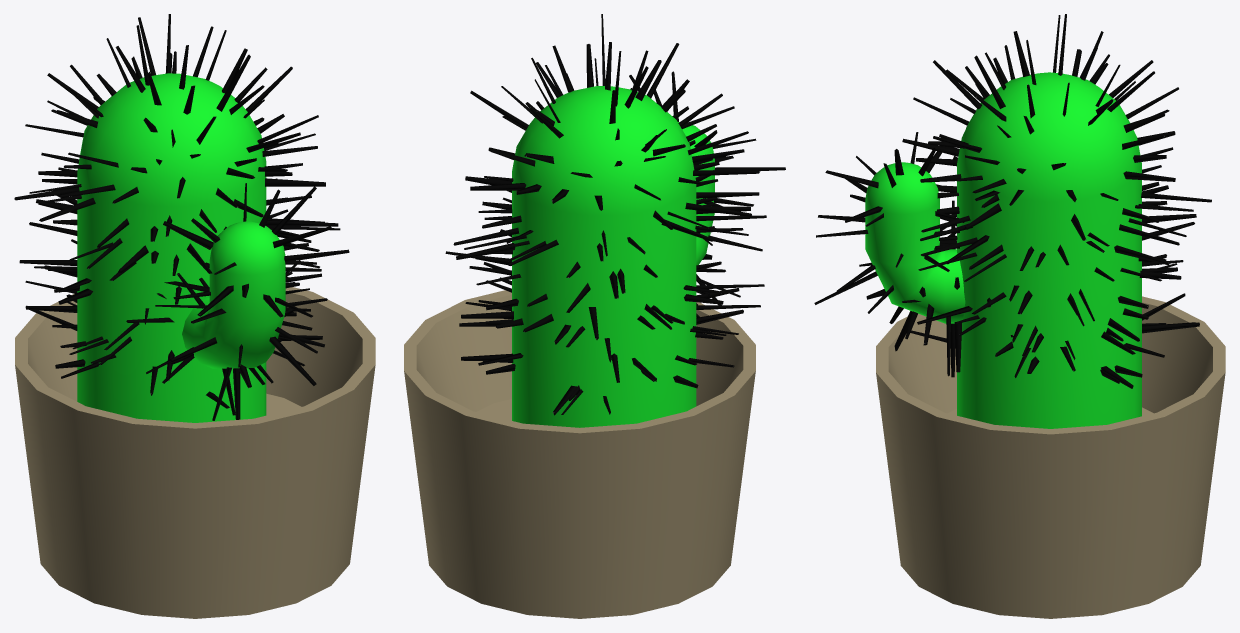
The model's file is Plant-Cactus.FBX.
3 views of the same model, side by side, from view 1: azimuth 30°, elevation 25°; view 2: azimuth 150°, elevation 25°; view 3: azimuth 270°, elevation 25° (orthographic). The views are drawn at different scales.
Visible parts, largest first — view 1: PottedCactus; view 2: PottedCactus; view 3: PottedCactus.
Part boxes in pixels (x1,y1,x2,y2): PottedCactus: (14, 14, 375, 618); PottedCactus: (404, 14, 785, 618); PottedCactus: (814, 14, 1225, 618).
Size of the model in its own units: 0.2236 by 0.2532 by 0.3513.
Materials: 1 (1 with a texture image).
